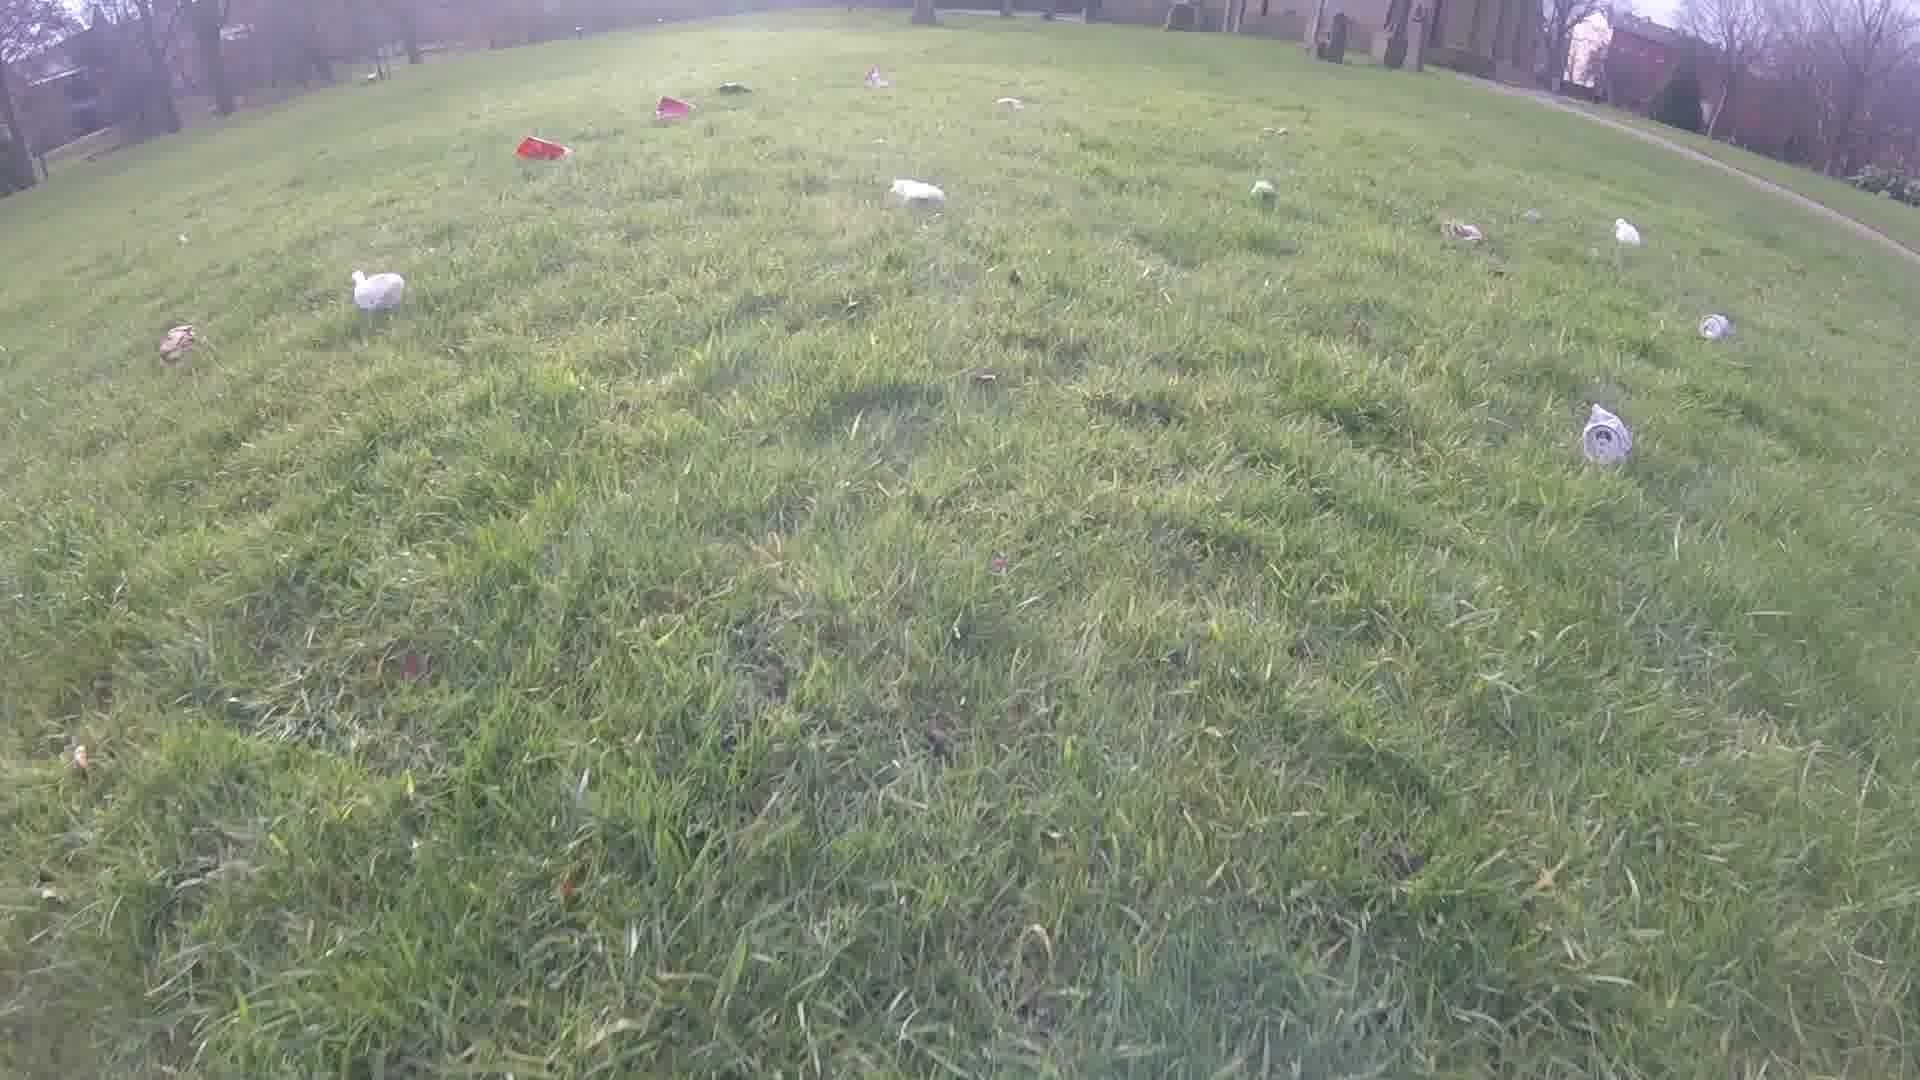litter: (1576, 401, 1633, 468), (347, 268, 405, 311), (512, 133, 572, 164), (887, 175, 945, 204), (156, 324, 196, 361), (1437, 216, 1484, 247), (653, 95, 694, 121), (1696, 314, 1729, 343), (1611, 216, 1640, 244), (713, 80, 750, 96), (860, 65, 884, 87), (1251, 177, 1273, 200), (996, 96, 1026, 112), (1261, 121, 1288, 135)
